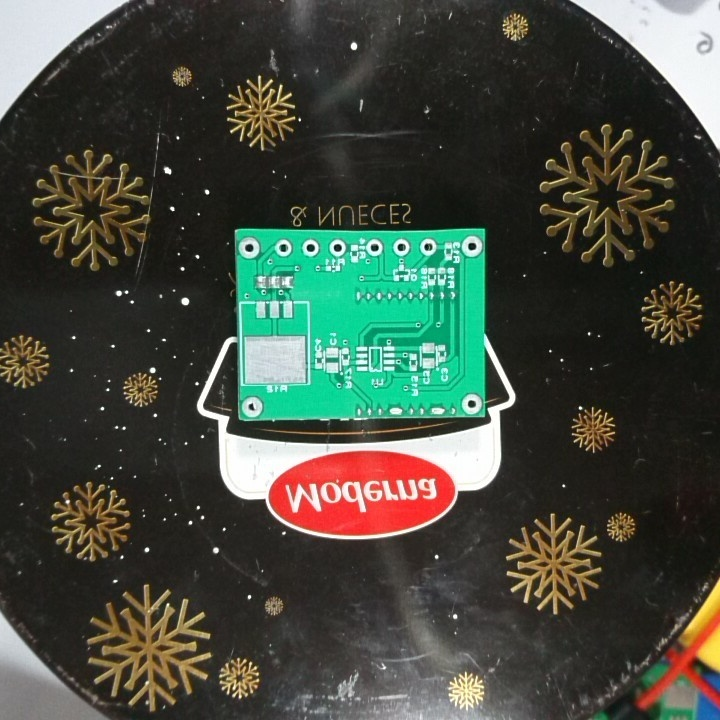F: (459, 233, 485, 260), (237, 235, 263, 262), (239, 394, 266, 419), (460, 390, 484, 417), (391, 236, 414, 260), (418, 237, 440, 259), (300, 238, 323, 259), (364, 238, 386, 259), (326, 237, 348, 258), (272, 238, 294, 258)
P: (386, 404, 407, 420), (428, 403, 447, 418)
